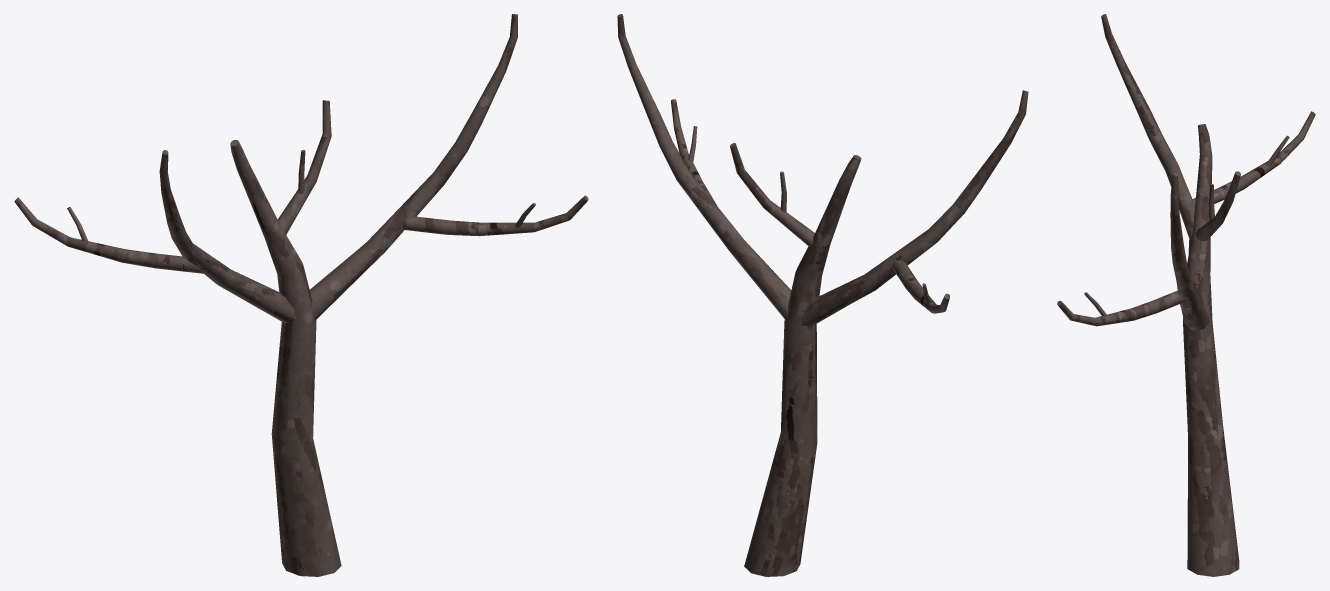
File: deadtree_5.glb
The picture shows the model from 3 angles, left to right: view 1: azimuth 30°, elevation 25°; view 2: azimuth 150°, elevation 25°; view 3: azimuth 270°, elevation 25°; orthographic projection. The views are drawn at different scales.
Parts seen in each view (by area): view 1: DeadTree_5; view 2: DeadTree_5; view 3: DeadTree_5.
Boxes of the visible parts, x1,y1,x2,y2 form: DeadTree_5: [14, 14, 588, 576]; DeadTree_5: [617, 14, 1028, 576]; DeadTree_5: [1057, 14, 1315, 576].
Bounding box in the file's own units: 5.24 × 6.02 × 2.99.
Materials: 1 (1 with a texture image).
